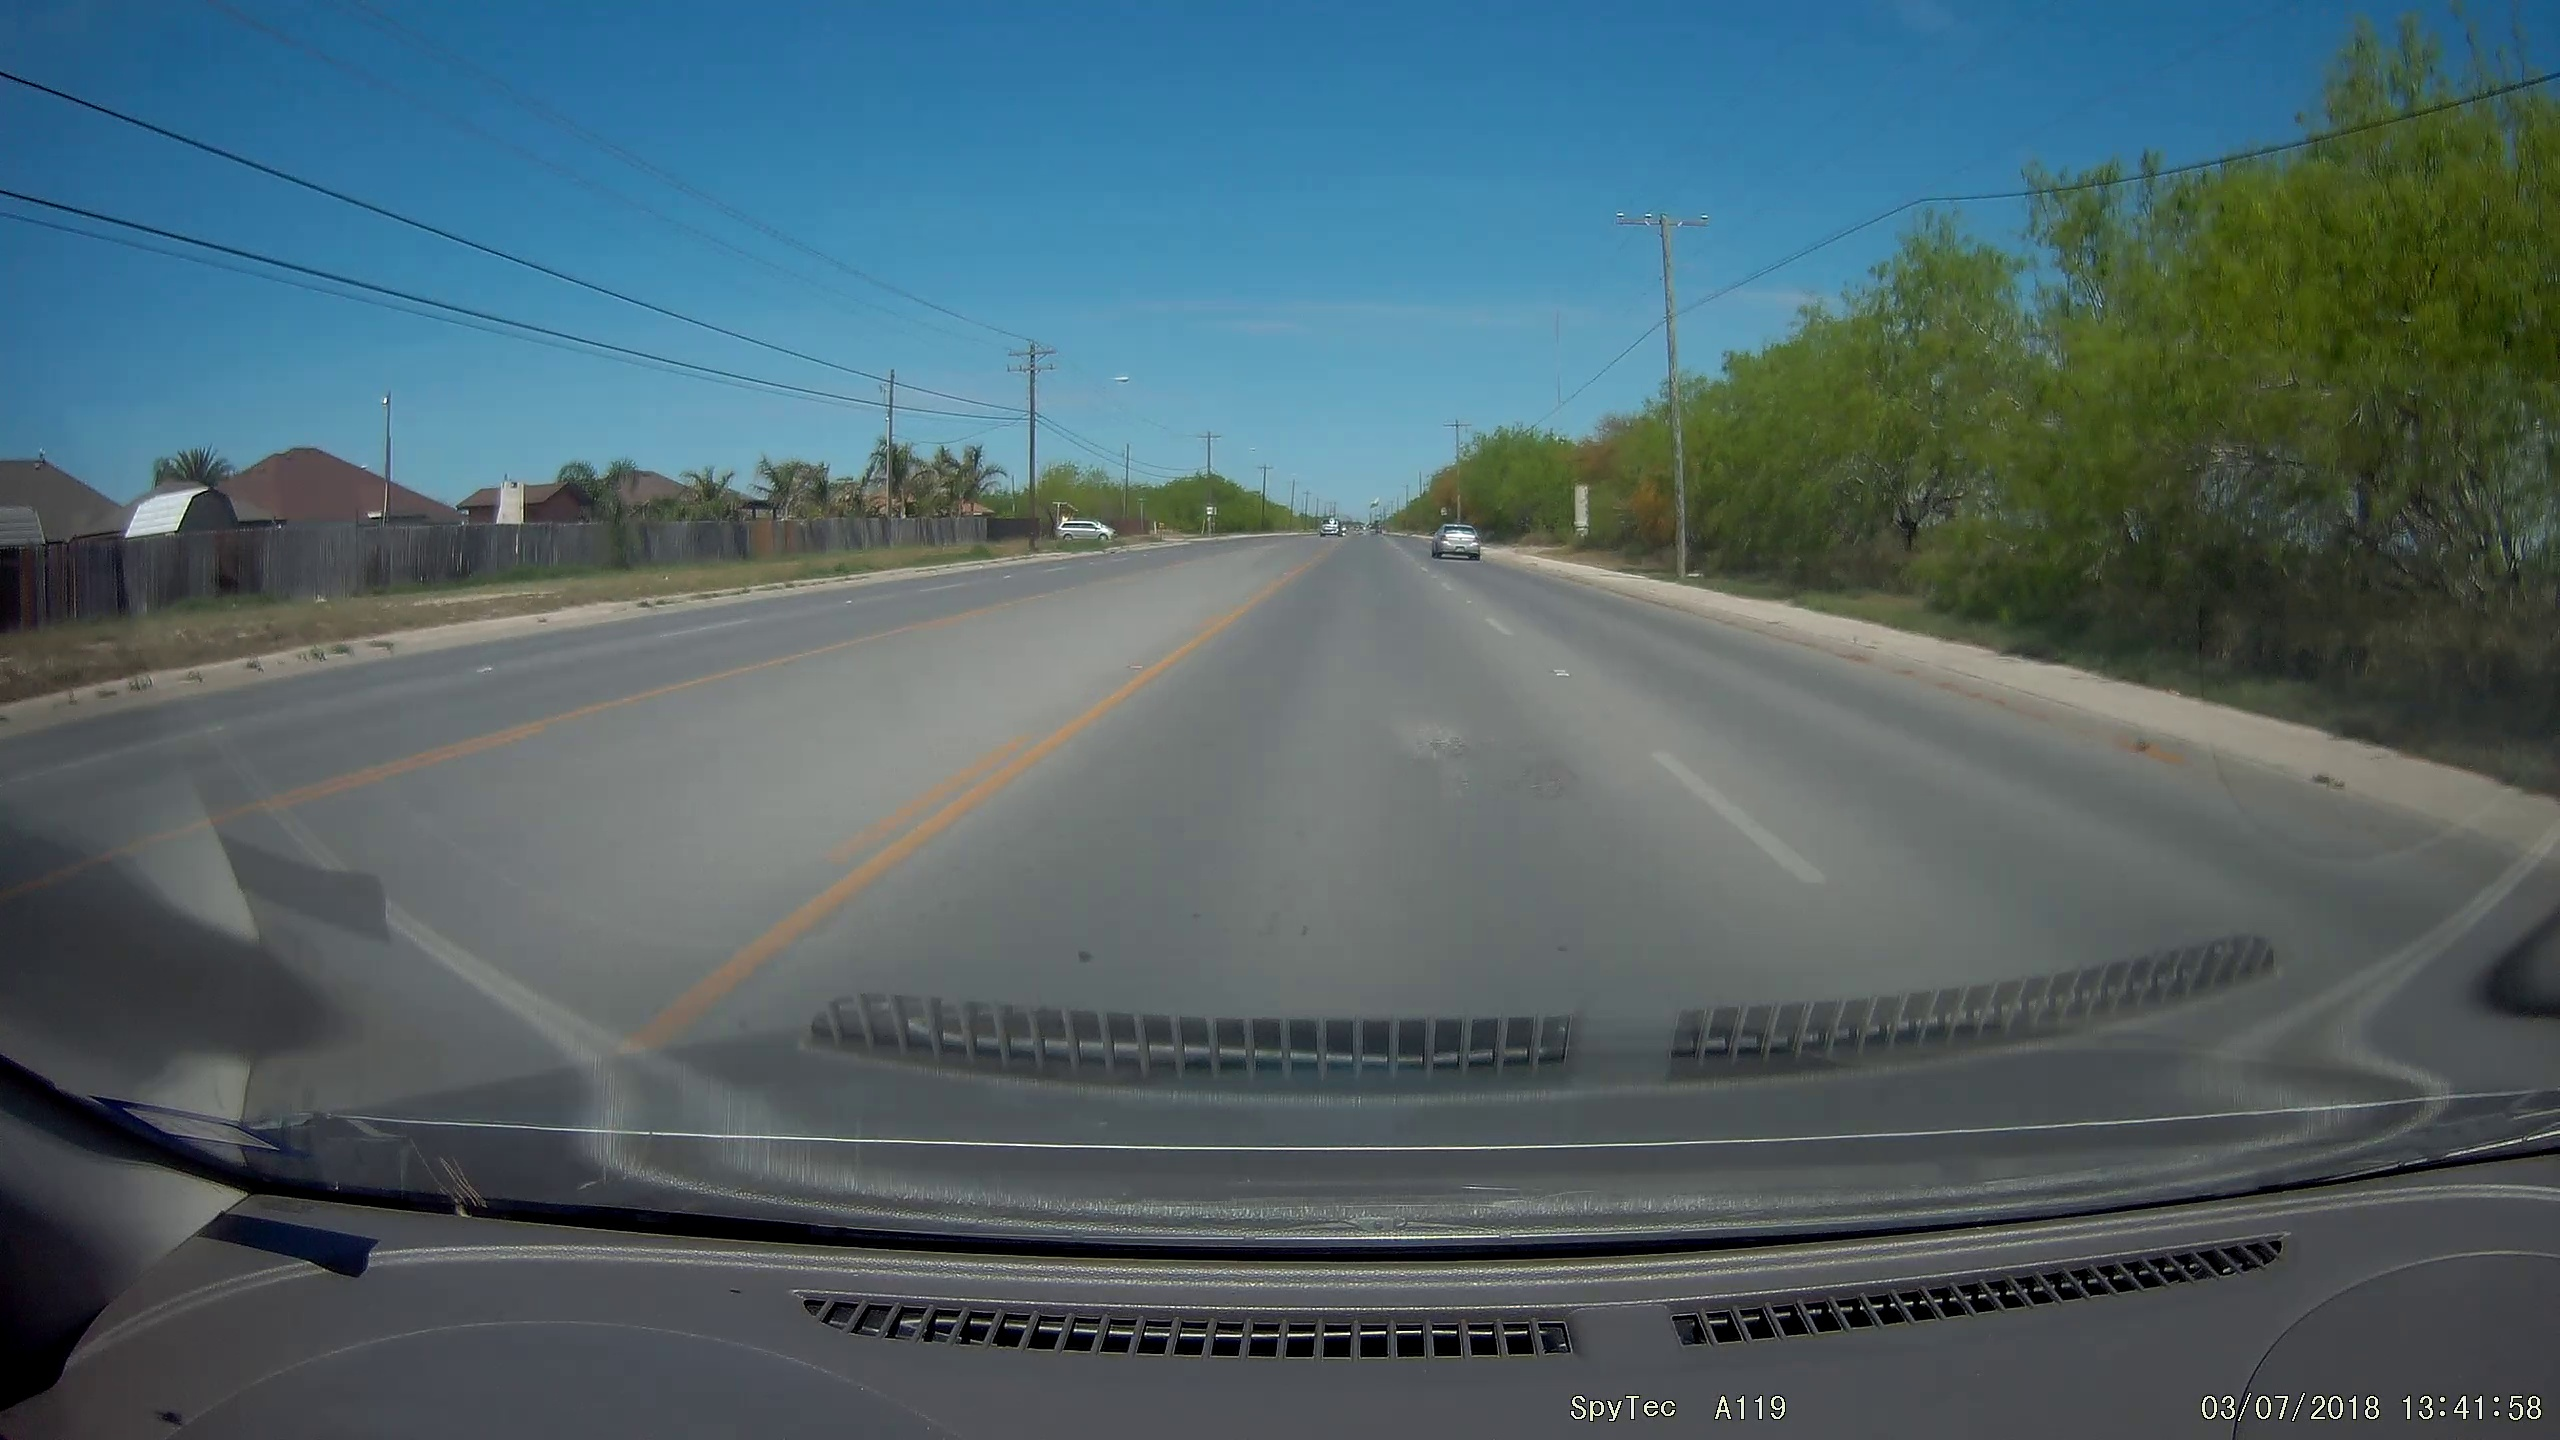alligatorCrack: (1503, 737, 1605, 821), (1400, 705, 1500, 784)
